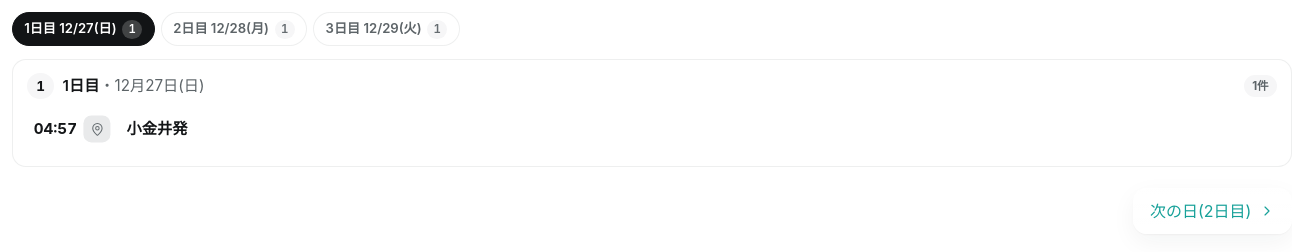
Test case: 日程を、日にちごとに切り替える › チップを押すと、その日に切り替わる
Click the button "3日目 12/29(火) 1" at coordinates (386, 29), box 313,12 -> 460,46
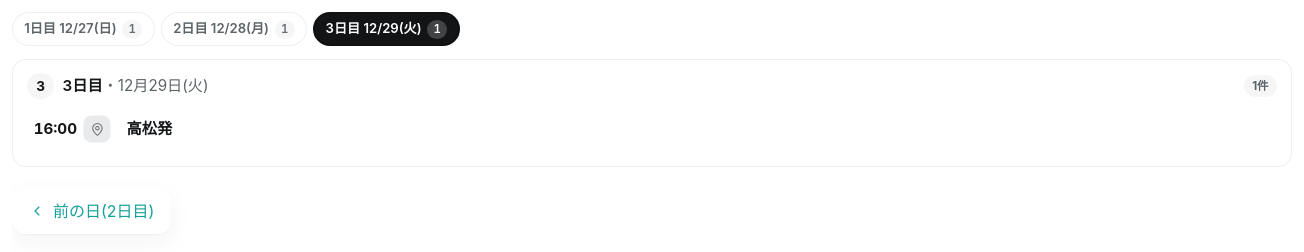
Expected: the text "高松発" is shown, 127,119 -> 172,138
Expected: the text "小金井発" is gone
Expected: the heading "3日目・12月29日(火)" is shown, 63,76 -> 209,95
